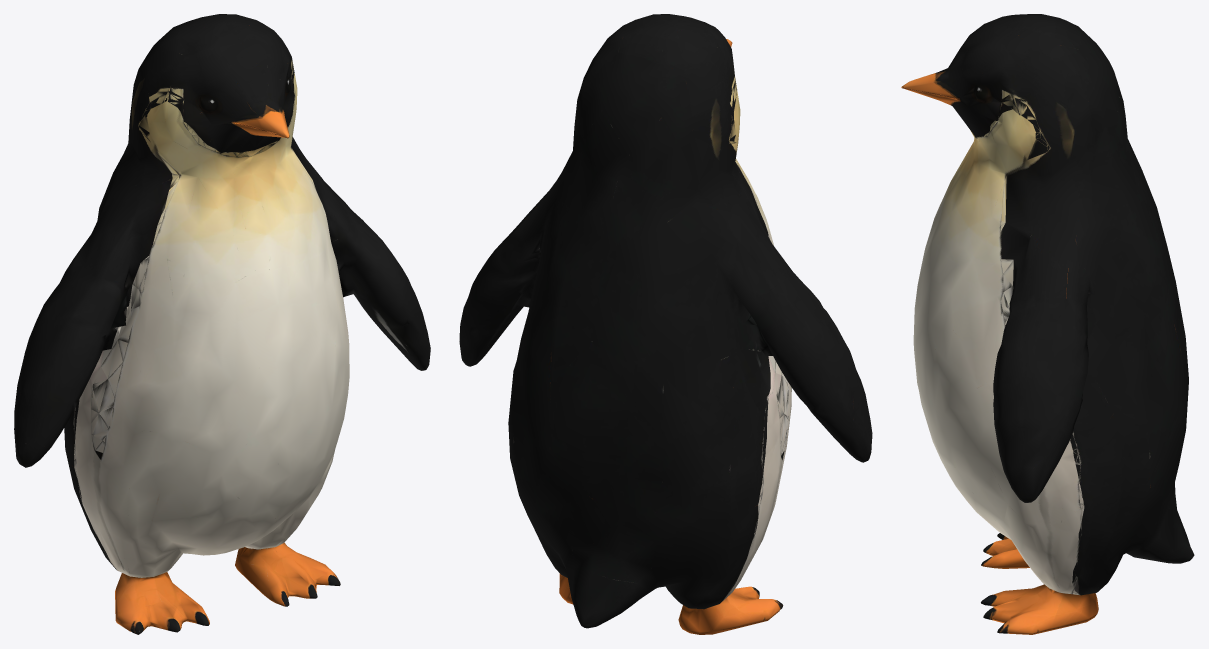
File: penguin-arms-edge.glb
The picture shows the model from 3 angles, left to right: view 1: azimuth 30°, elevation 25°; view 2: azimuth 150°, elevation 25°; view 3: azimuth 270°, elevation 25°; orthographic projection. The views are drawn at different scales.
Visible parts, largest first — view 1: penguin_edge_out; view 2: penguin_edge_out; view 3: penguin_edge_out.
Boxes of the visible parts, x1,y1,x2,y2 form: penguin_edge_out: (14, 14, 430, 634); penguin_edge_out: (459, 14, 872, 634); penguin_edge_out: (901, 14, 1194, 634).
Bounding box in the file's own units: 1.41 × 1.9 × 0.8937.
1 material, 1 textured.
